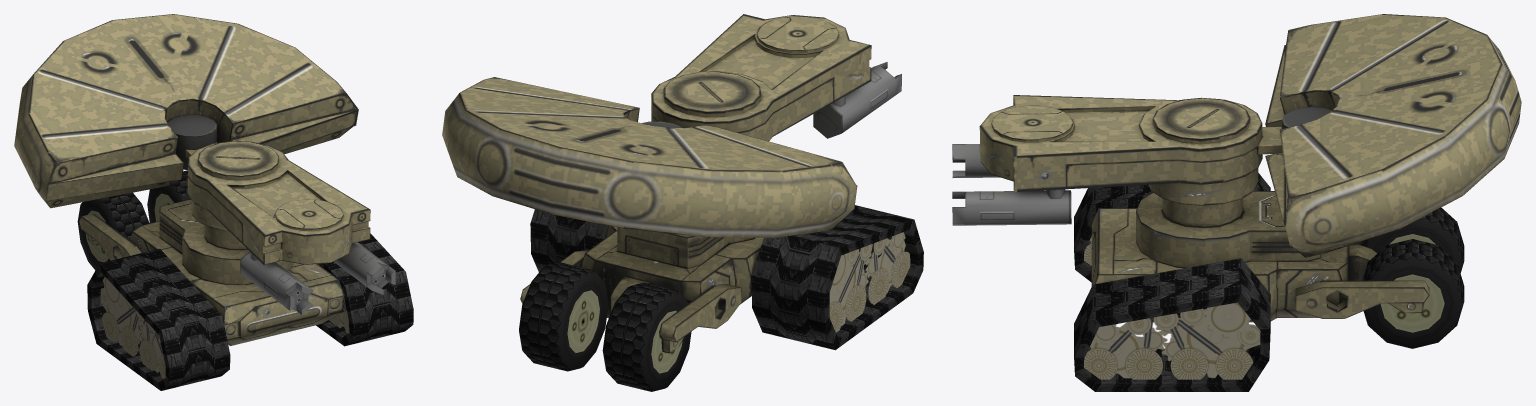
File: lowpoly_mechatank.glb
3 views of the same model, side by side, from view 1: azimuth 30°, elevation 25°; view 2: azimuth 150°, elevation 25°; view 3: azimuth 270°, elevation 25° (orthographic). The views are drawn at different scales.
Visible parts, largest first — view 1: Butt, Head, Cube.001, LowerBody, Body, Guns, Cylinder, Gears, Cube.002, Rims, Gear1.001, Gear1.002 (+1 smaller); view 2: Butt, Head, Cube.001, Cylinder, LowerBody, Cube.002, Body, Guns, Gears, Rims, Gear1.002, Gear1.001 (+1 smaller); view 3: Butt, Head, Cube.001, Body, LowerBody, Cylinder, Gears, Guns, Cube.002, Rims, Gear2.001, Gear1.002 (+3 smaller).
Part boxes in pixels (bbox=[...]): Butt: bbox=[14, 14, 358, 208]; Head: bbox=[167, 114, 370, 264]; Cube.001: bbox=[87, 233, 413, 390]; LowerBody: bbox=[129, 221, 344, 345]; Body: bbox=[159, 199, 292, 284]; Guns: bbox=[240, 242, 395, 314]; Cylinder: bbox=[77, 170, 190, 270]; Gears: bbox=[100, 264, 349, 372]; Cube.002: bbox=[79, 213, 141, 260]; Rims: bbox=[85, 193, 174, 262]; Gear1.001: bbox=[139, 340, 155, 370]; Gear1.002: bbox=[120, 326, 136, 356]; Butt: bbox=[442, 77, 857, 237]; Head: bbox=[641, 14, 871, 141]; Cube.001: bbox=[530, 205, 923, 350]; Cylinder: bbox=[519, 262, 691, 391]; LowerBody: bbox=[580, 225, 763, 327]; Cube.002: bbox=[520, 250, 741, 353]; Body: bbox=[617, 227, 755, 268]; Guns: bbox=[813, 62, 901, 138]; Gears: bbox=[829, 235, 905, 326]; Rims: bbox=[567, 290, 682, 373]; Gear1.002: bbox=[847, 285, 866, 321]; Gear1.001: bbox=[870, 268, 889, 304]; Butt: bbox=[1265, 14, 1521, 257]; Head: bbox=[979, 95, 1331, 191]; Cube.001: bbox=[1074, 173, 1270, 391]; Body: bbox=[1136, 168, 1319, 268]; LowerBody: bbox=[1091, 208, 1377, 322]; Cylinder: bbox=[1361, 207, 1464, 348]; Gears: bbox=[1084, 237, 1260, 378]; Guns: bbox=[952, 144, 1071, 225]; Cube.002: bbox=[1295, 241, 1429, 318]; Rims: bbox=[1380, 234, 1444, 332]; Gear2.001: bbox=[1202, 302, 1251, 340]; Gear1.002: bbox=[1170, 348, 1208, 379].
Size of the model in its own units: 640 by 426 by 853.
Materials: 7 (7 with a texture image).
